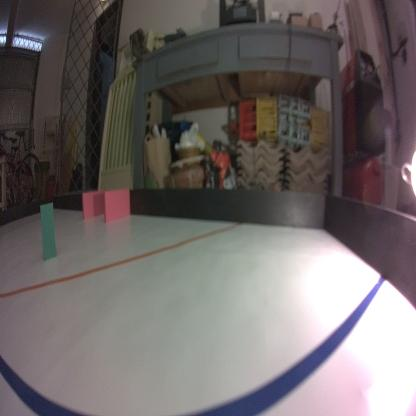green: (38, 200, 57, 265)
magenta: (102, 187, 130, 223), (81, 189, 108, 221)
